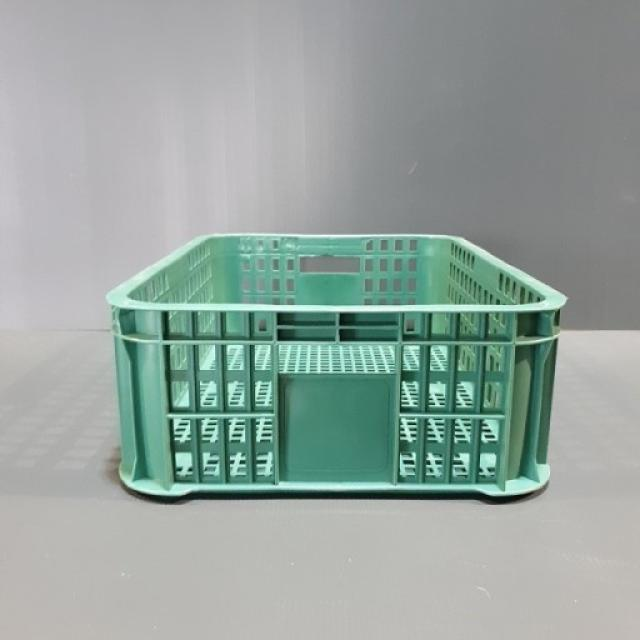basket: (107, 234, 568, 499)
